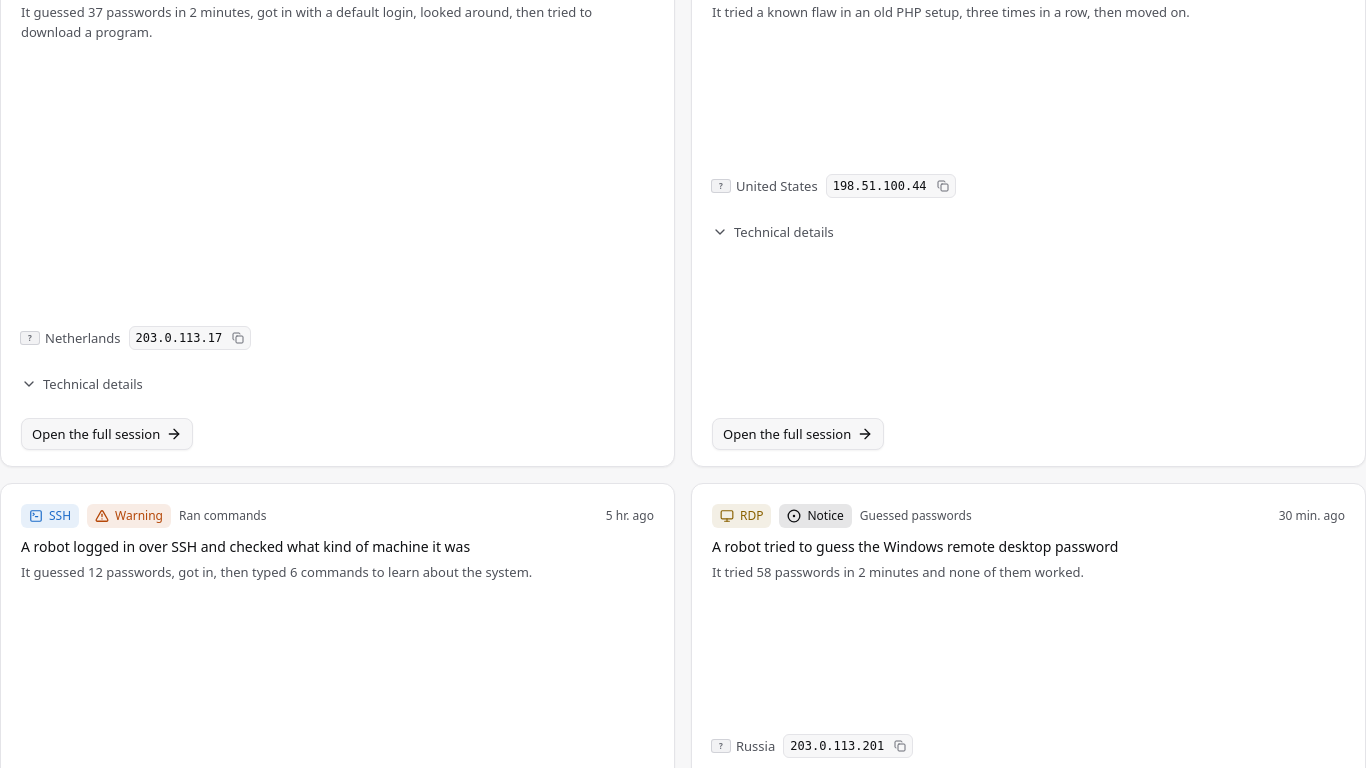
TodayPage › renders attacker text as text, never as markup
(page scrolled)
Click the button "Technical details" below "203.0.113.17": {"x": 82, "y": 384} x1=21 y1=366 x2=143 y2=402
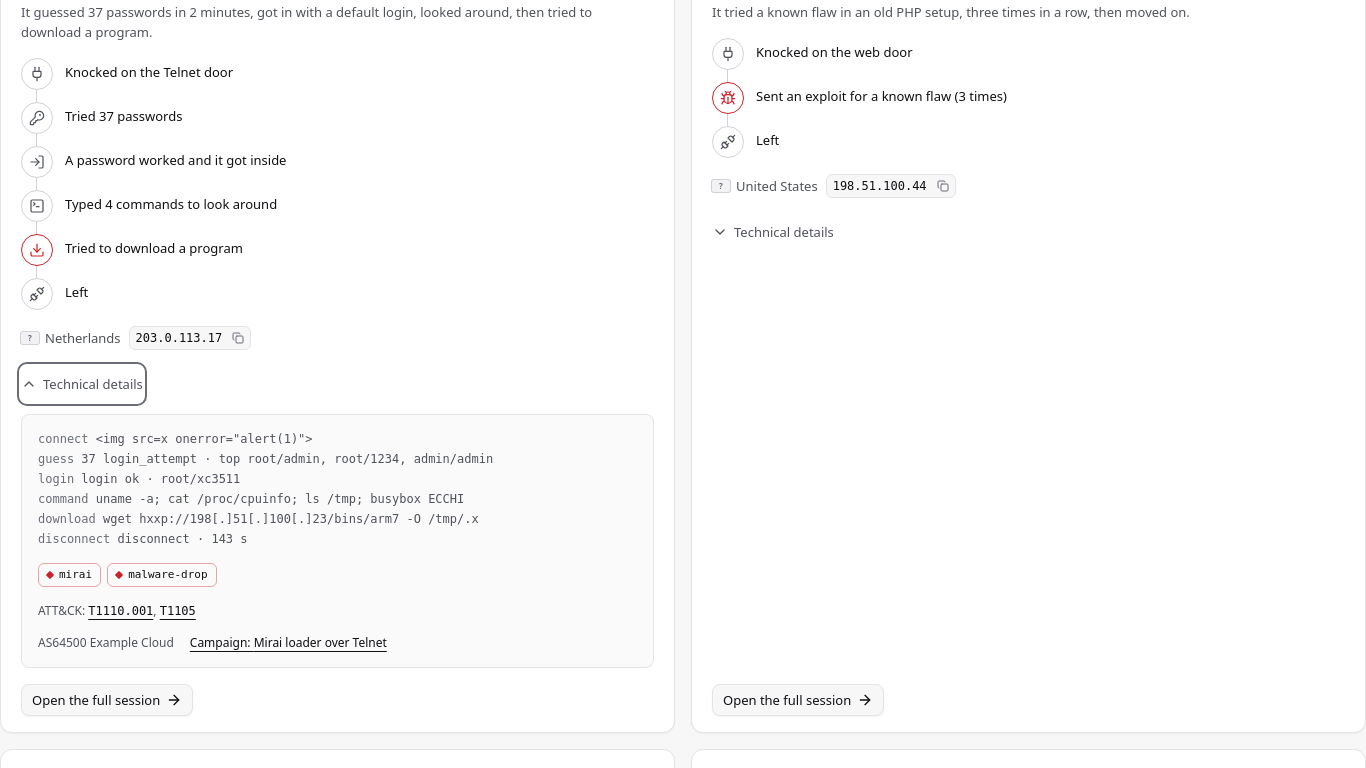
Now the list item "connect <img src=x onerror=\"alert(1)\">" is shown, box x1=38 y1=432 x2=313 y2=446
